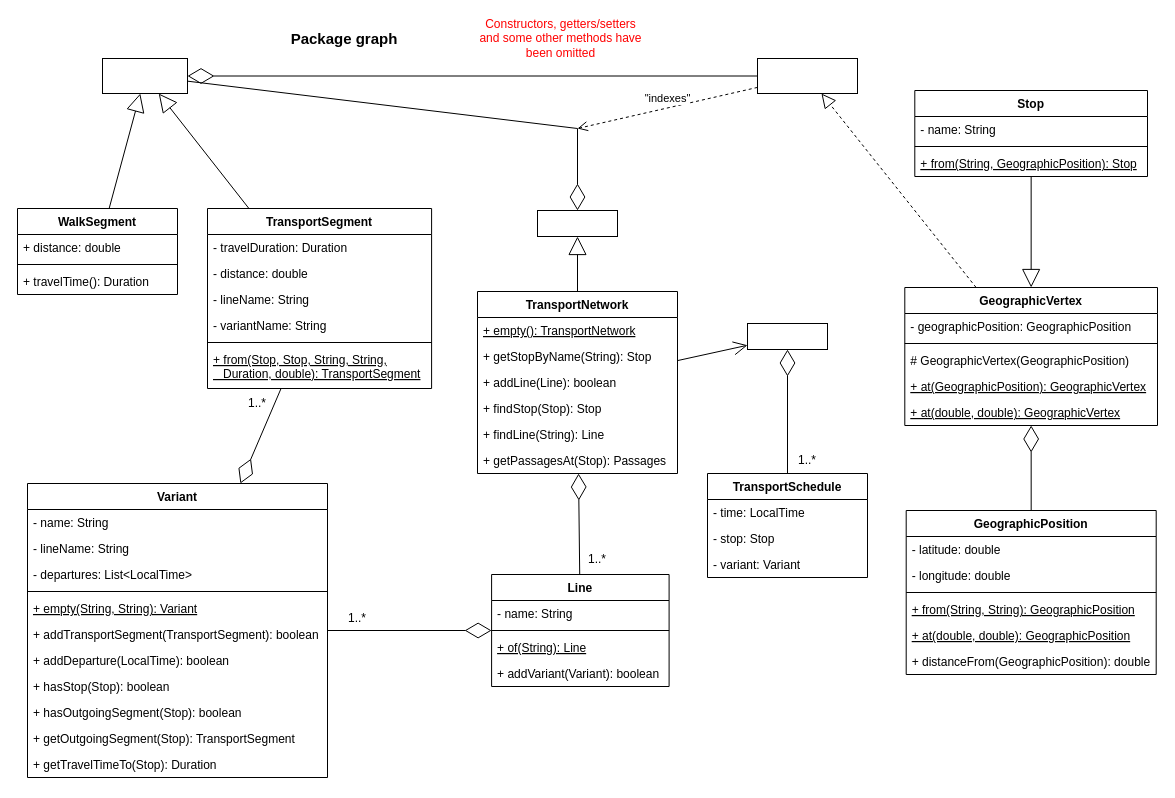
Some shapes in this 1175 by 798 pixel diagram are drawn without their labels. Here are the shapes that lost their labels. From the top down, the centre of each, then its label:
At point (145, 76): "Edge".
At point (807, 76): "«interface» Vertex".
At point (577, 223): "Graph".
At point (787, 336): "Passages".
